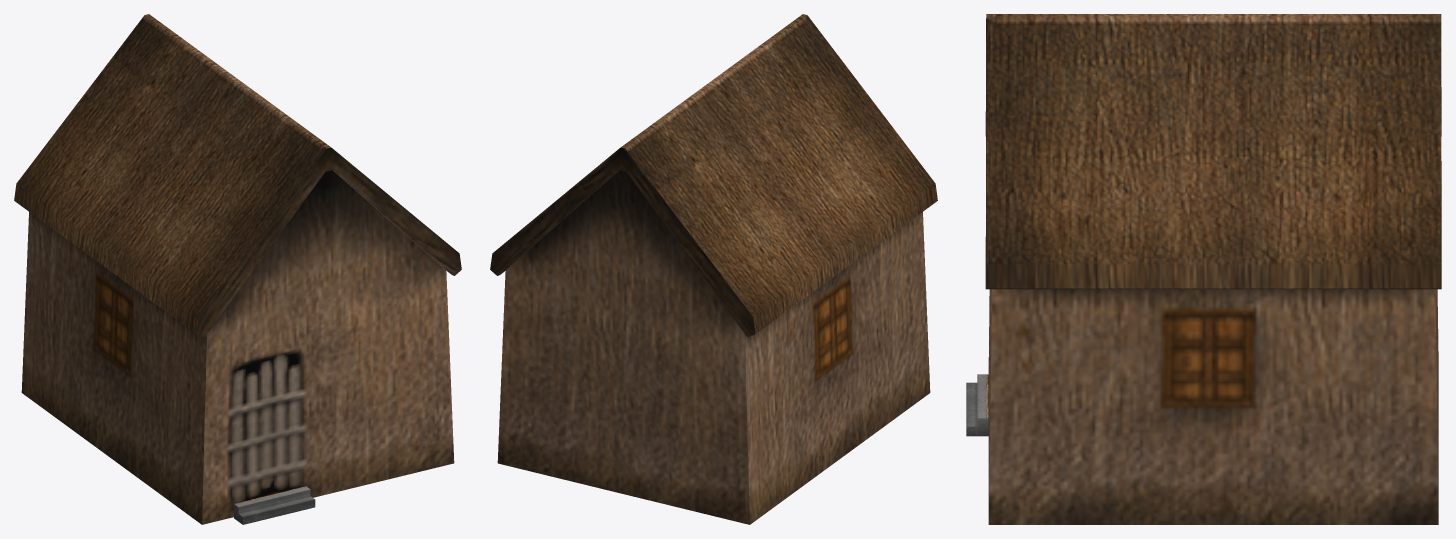
Rendered from house_hinmin.fbx.
3 views of the same model, side by side, from view 1: azimuth 30°, elevation 25°; view 2: azimuth 150°, elevation 25°; view 3: azimuth 270°, elevation 25° (orthographic). The views are drawn at different scales.
Visible parts, largest first — view 1: hinmin1; view 2: hinmin1; view 3: hinmin1.
Part boxes in pixels (x1=…): hinmin1: x1=14, y1=14, x2=461, y2=524; hinmin1: x1=490, y1=14, x2=937, y2=524; hinmin1: x1=966, y1=14, x2=1441, y2=524.
Bounding box in the file's own units: 0.3582 × 0.4493 × 0.4457.
